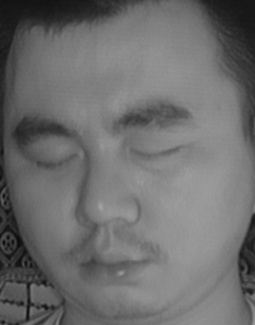blink: (132, 133, 185, 174), (31, 142, 84, 178)
mouth: (69, 232, 159, 289)
